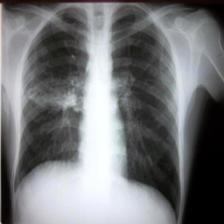tuberculosis: (8, 3, 182, 224)
